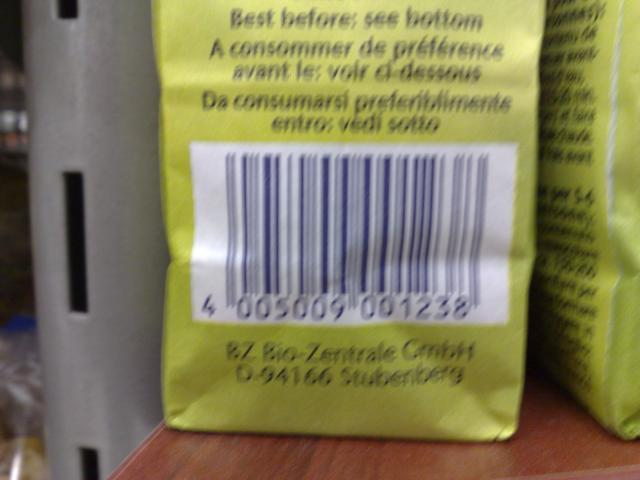Barcode: (189, 142, 511, 326)
